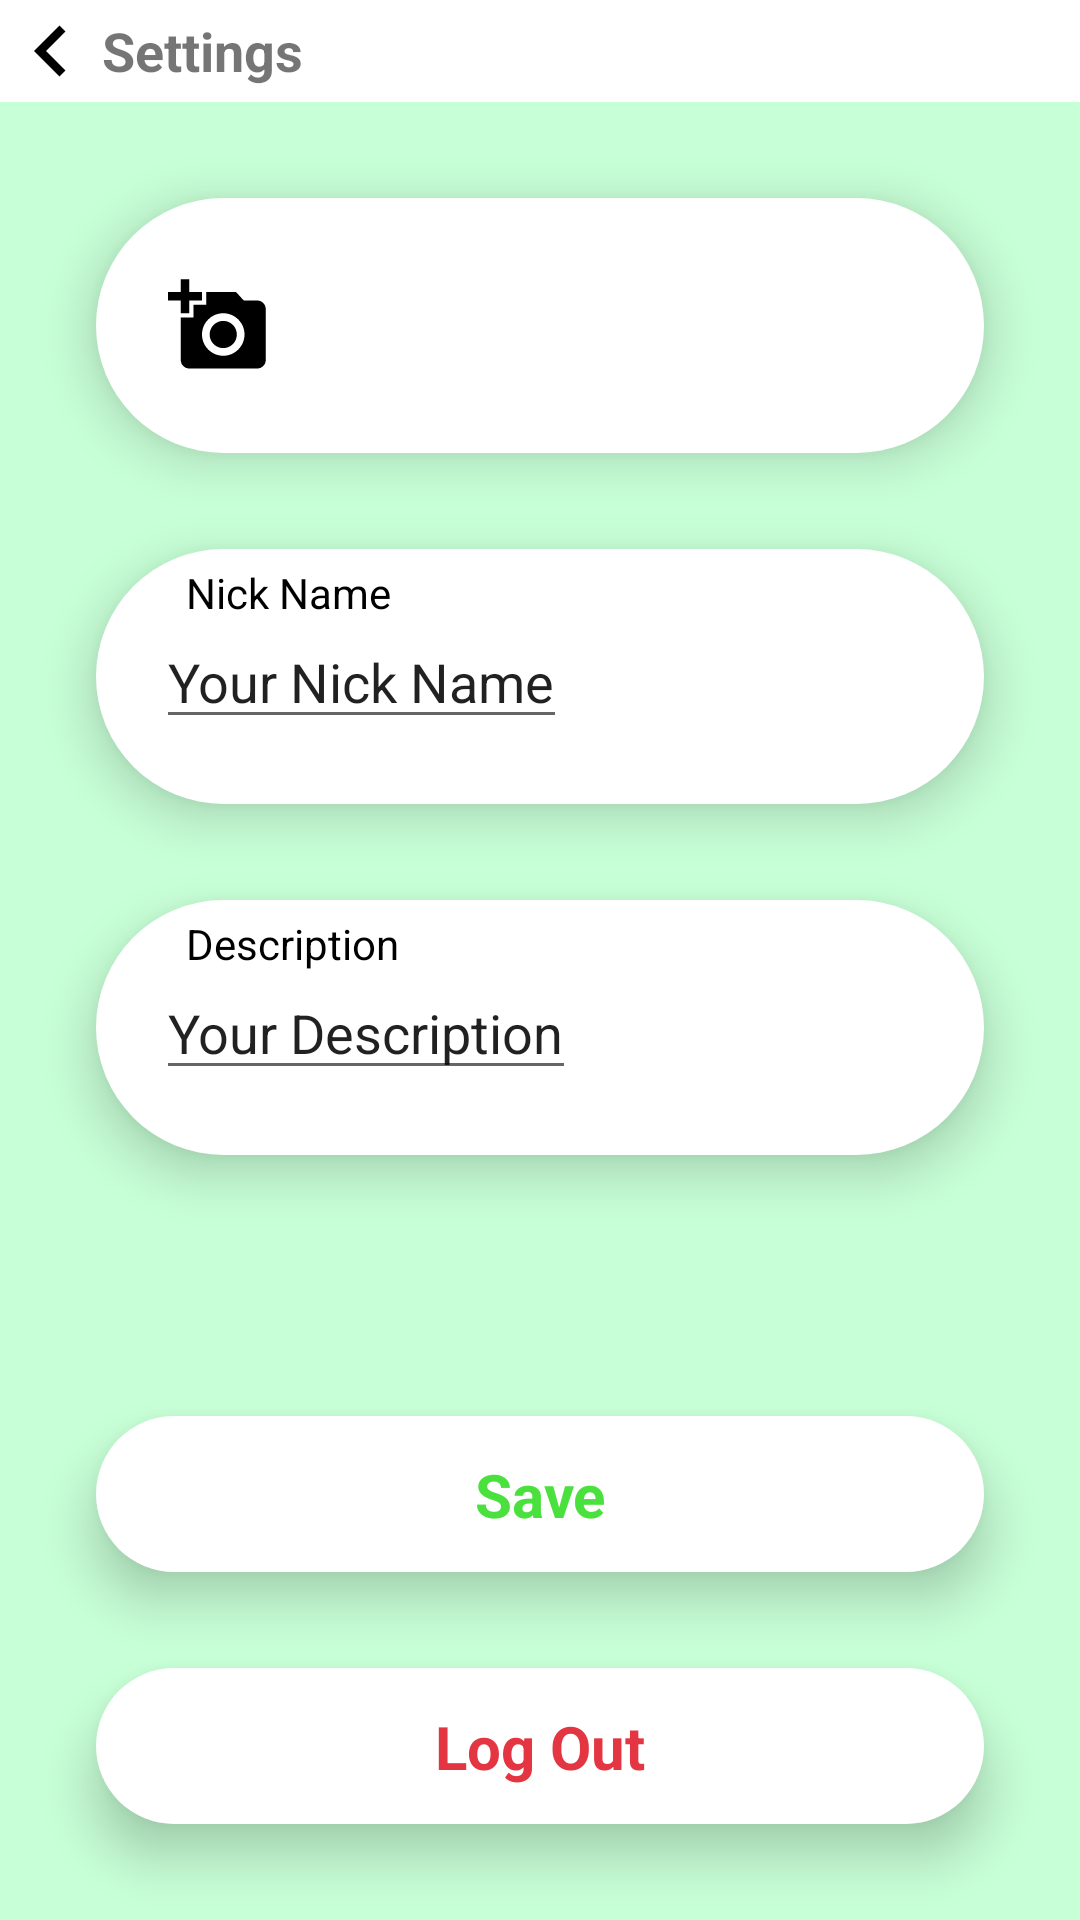

Icon click points for this 1080px×1920px phone screenshot, format (x,y):
add photo: (217,324)
chevron left: (50,51)
